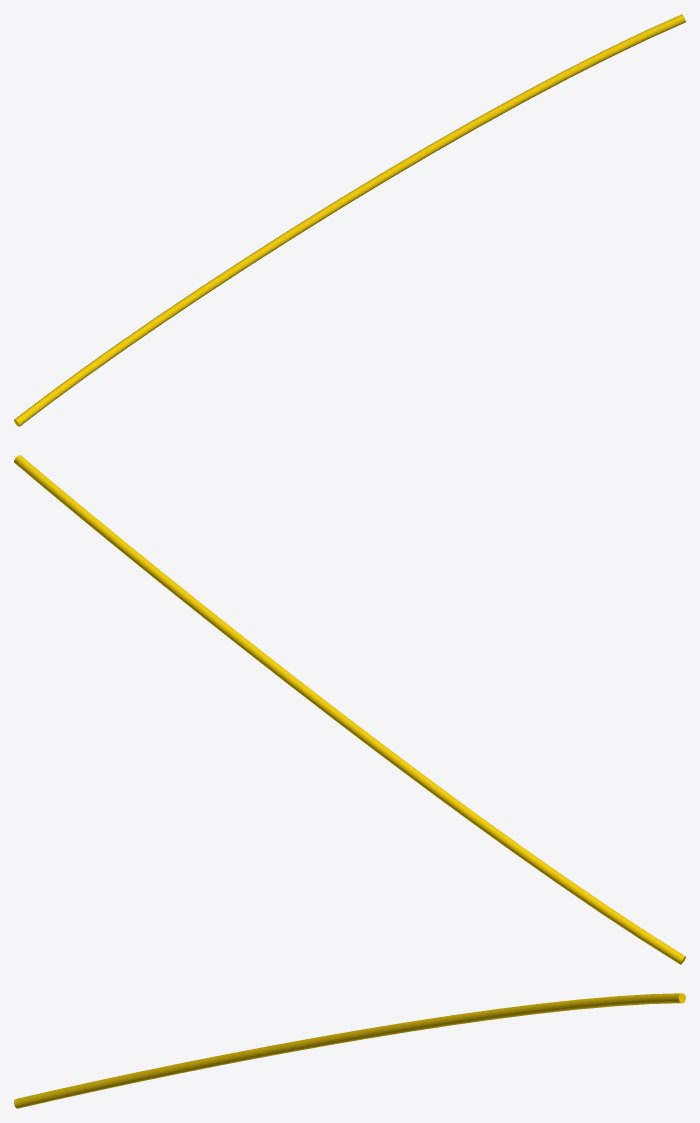
Rendered from Event_420094457_track_94.fbx.
3 renders of one model, top to bottom at view 1: azimuth 30°, elevation 25°; view 2: azimuth 150°, elevation 25°; view 3: azimuth 330°, elevation 25°, orthographic. The views are drawn at different scales.
Parts seen in each view (by area): view 1: Model; view 2: Model; view 3: Model.
Part boxes in pixels (x1,y1,x2,y2): Model: (14, 14, 685, 426); Model: (14, 455, 685, 964); Model: (14, 993, 685, 1108).
Size of the model in its own units: 3.28 by 1.39 by 0.3574.
